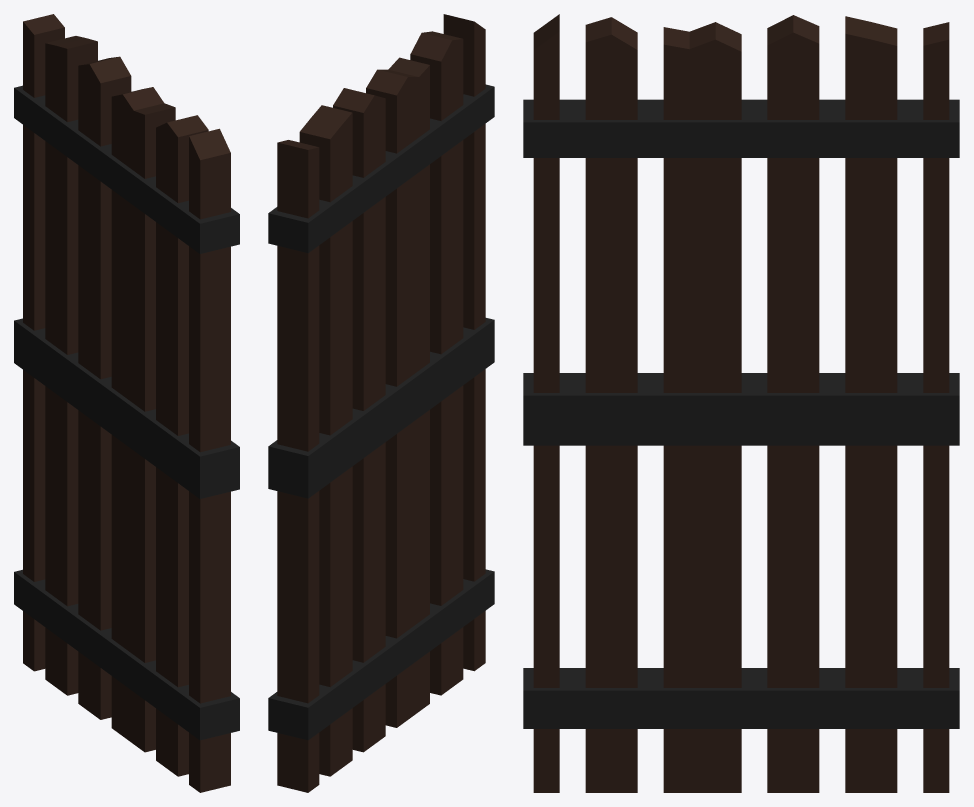
Rendered from WoodDoor.fbx.
3 views of the same model, side by side, from view 1: azimuth 30°, elevation 25°; view 2: azimuth 150°, elevation 25°; view 3: azimuth 270°, elevation 25° (orthographic). The views are drawn at different scales.
Parts seen in each view (by area): view 1: Cube; view 2: Cube; view 3: Cube.
Boxes of the visible parts, left/top/right/bottom form: Cube: left=14, top=14, right=239, bottom=792; Cube: left=268, top=14, right=494, bottom=792; Cube: left=523, top=14, right=959, bottom=792.
Size of the model in its own units: 26 by 404 by 210.
